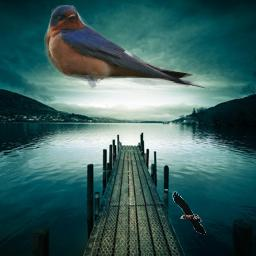Crow: (172, 191, 207, 235)
Swallow: (44, 5, 209, 90)
